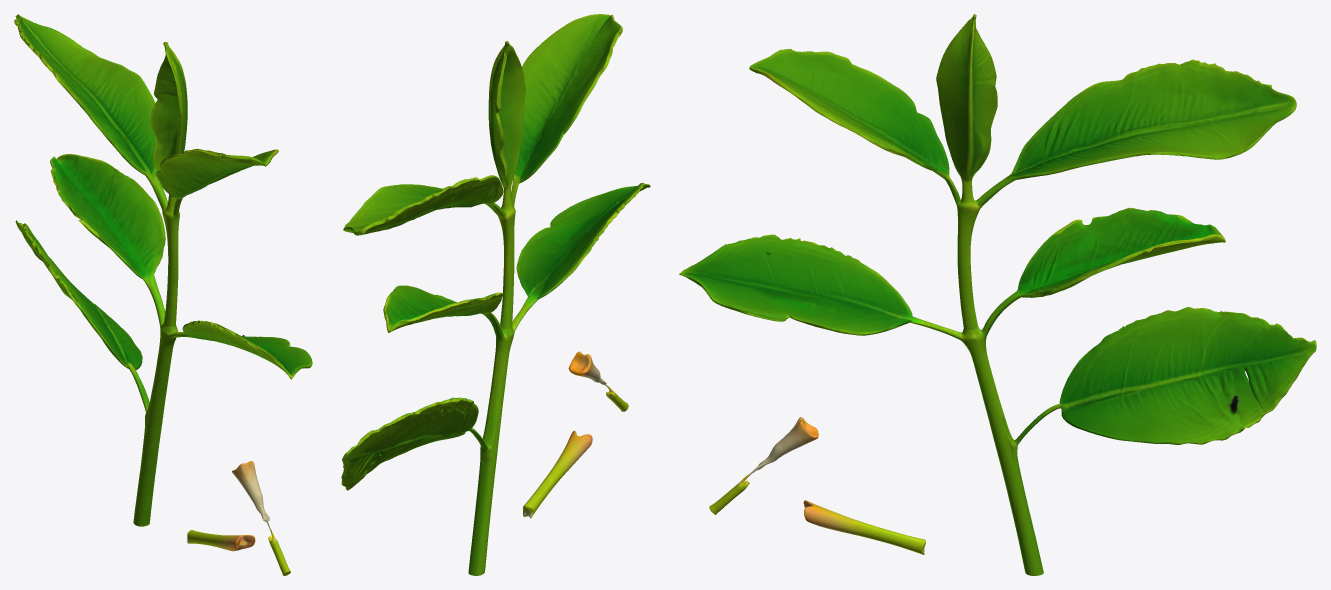
The model's file is lemongrass.glb.
The picture shows the model from 3 angles, left to right: view 1: azimuth 30°, elevation 25°; view 2: azimuth 150°, elevation 25°; view 3: azimuth 270°, elevation 25°; orthographic projection. The views are drawn at different scales.
Parts seen in each view (by area): view 1: tripo_node_a61b32a5-fa26-4639-ad8a-b4ec5fe57e0a; view 2: tripo_node_a61b32a5-fa26-4639-ad8a-b4ec5fe57e0a; view 3: tripo_node_a61b32a5-fa26-4639-ad8a-b4ec5fe57e0a.
Boxes of the visible parts, x1,y1,x2,y2 form: tripo_node_a61b32a5-fa26-4639-ad8a-b4ec5fe57e0a: (14,14,312,575); tripo_node_a61b32a5-fa26-4639-ad8a-b4ec5fe57e0a: (341,14,650,575); tripo_node_a61b32a5-fa26-4639-ad8a-b4ec5fe57e0a: (679,14,1316,575).
Size of the model in its own units: 0.186 by 0.9639 by 1.
Materials: 1 (1 with a texture image).
